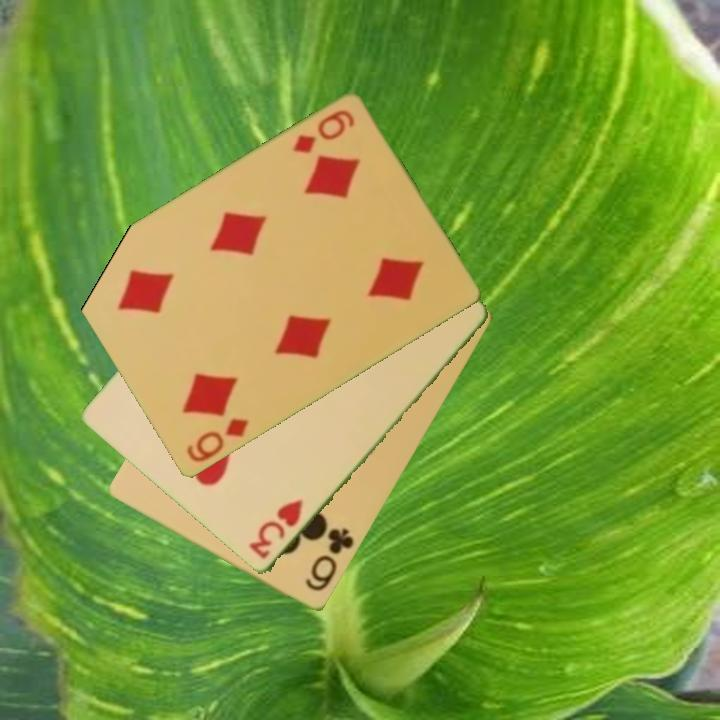3h: (245, 496, 307, 563)
6c: (301, 525, 357, 595)
6d: (289, 106, 358, 158), (183, 415, 252, 466)
